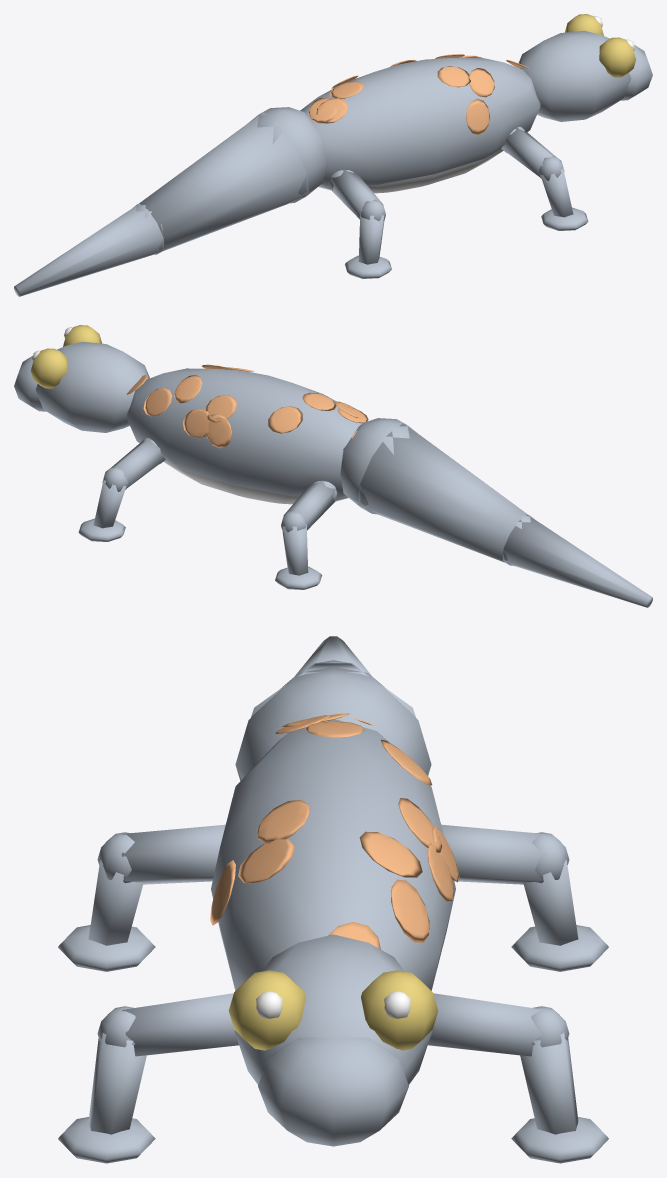
File: tokay-gecko.glb
The picture shows the model from 3 angles, top to bottom: view 1: azimuth 30°, elevation 25°; view 2: azimuth 150°, elevation 25°; view 3: azimuth 270°, elevation 25°; orthographic projection. The views are drawn at different scales.
Parts seen in each view (by area): view 1: e, e.022, e.016, e.035, e.025; view 2: e, e.022, e.016, e.040, e.030; view 3: e, e.016, e.025, e.030, e.035, e.040, e.022.
Boxes of the visible parts, <box> form: e: <box>300,54,540,193</box>; e.022: <box>14,107,326,296</box>; e.016: <box>518,14,652,121</box>; e.035: <box>329,169,391,278</box>; e.025: <box>501,127,588,230</box>; e: <box>126,364,368,504</box>; e.022: <box>340,418,652,607</box>; e.016: <box>14,325,149,432</box>; e.040: <box>275,480,337,589</box>; e.030: <box>78,438,165,541</box>; e: <box>210,713,459,990</box>; e.016: <box>228,934,438,1146</box>; e.025: <box>58,993,238,1163</box>; e.030: <box>428,993,608,1163</box>; e.035: <box>58,824,225,971</box>; e.040: <box>441,824,608,971</box>; e.022: <box>235,636,431,780</box>.
Bounding box in the file's own units: 0.8341 × 0.1792 × 0.315.
